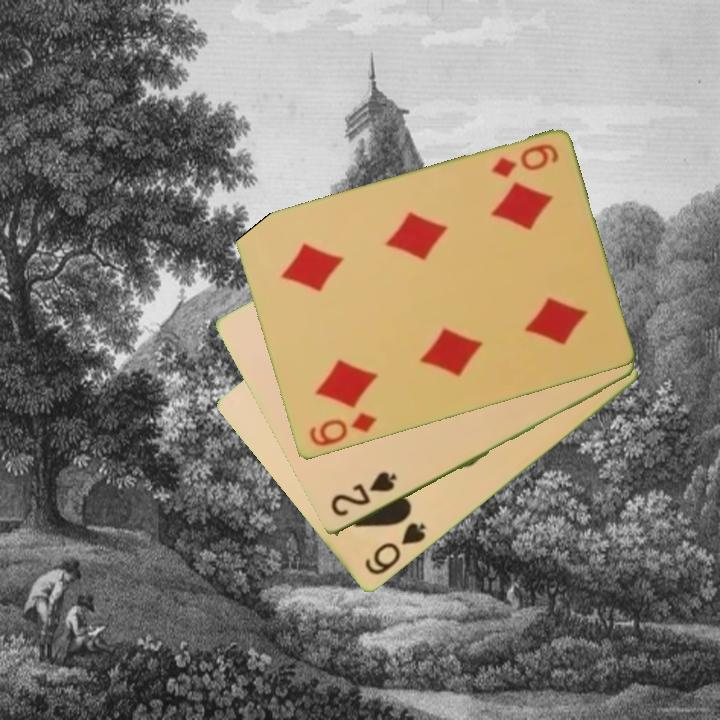2s: (327, 468, 400, 520)
6d: (305, 409, 379, 450), (487, 141, 561, 182)
6s: (361, 519, 429, 579)
